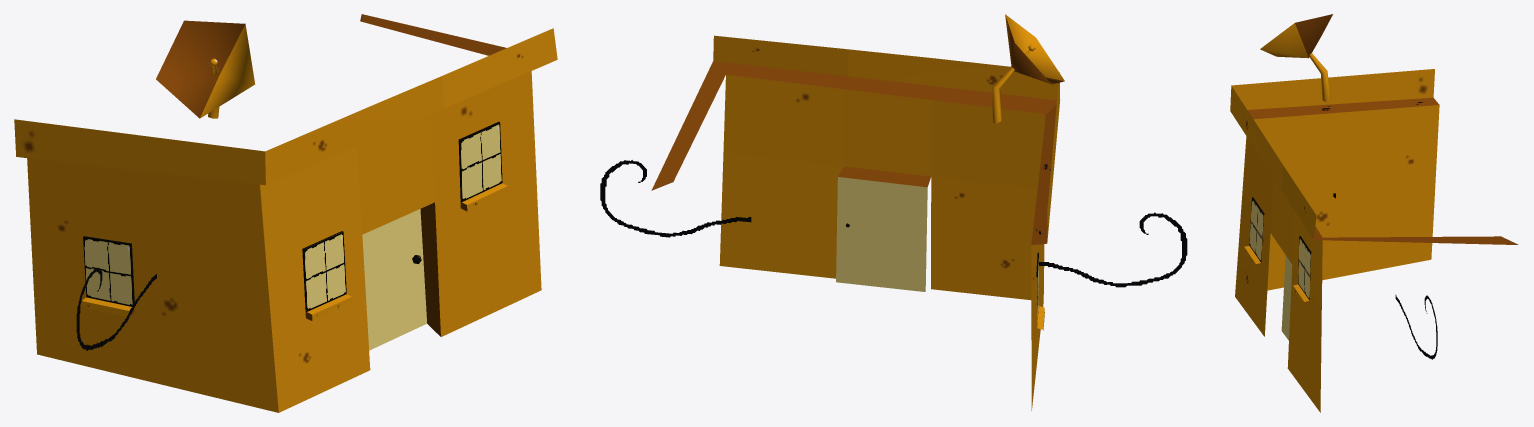
File: titleHOUSE.obj
The picture shows the model from 3 angles, left to right: view 1: azimuth 30°, elevation 25°; view 2: azimuth 150°, elevation 25°; view 3: azimuth 270°, elevation 25°; orthographic projection. The views are drawn at different scales.
Visible parts, largest first — view 1: house.001, satellite.001; view 2: house.001, satellite.001; view 3: house.001, satellite.001.
Part boxes in pixels (x1,y1,x2,y2): house.001: (14, 14, 557, 412); satellite.001: (156, 20, 255, 118); house.001: (600, 35, 1187, 410); satellite.001: (992, 14, 1064, 123); house.001: (1230, 69, 1518, 412); satellite.001: (1260, 14, 1332, 102).
Bounding box in the file's own units: 0.4818 × 0.2862 × 0.2666.
Materials: 1 (1 with a texture image).
